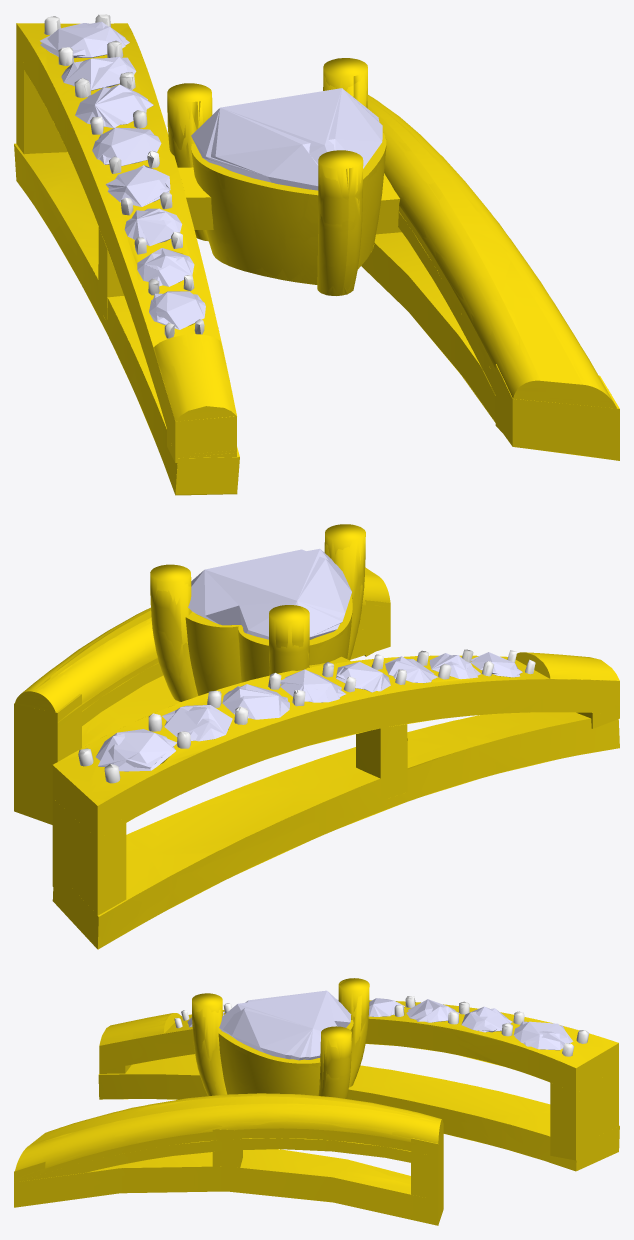
Rendered from DPN-D000675678.glb.
3 renders of one model, top to bottom at view 1: azimuth 30°, elevation 25°; view 2: azimuth 150°, elevation 25°; view 3: azimuth 270°, elevation 25°, orthographic. The views are drawn at different scales.
Parts seen in each view (by area): view 1: highPolyMesh, lowPolyMesh; view 2: highPolyMesh, lowPolyMesh; view 3: highPolyMesh, lowPolyMesh.
Boxes of the visible parts, left/top/right/bottom form: highPolyMesh: left=14, top=14, right=619, bottom=495; lowPolyMesh: left=14, top=14, right=619, bottom=495; highPolyMesh: left=14, top=524, right=619, bottom=948; lowPolyMesh: left=15, top=524, right=618, bottom=949; highPolyMesh: left=14, top=978, right=619, bottom=1225; lowPolyMesh: left=14, top=978, right=619, bottom=1202.
Bounding box in the file's own units: 0.00867 × 0.0045 × 0.0153.
